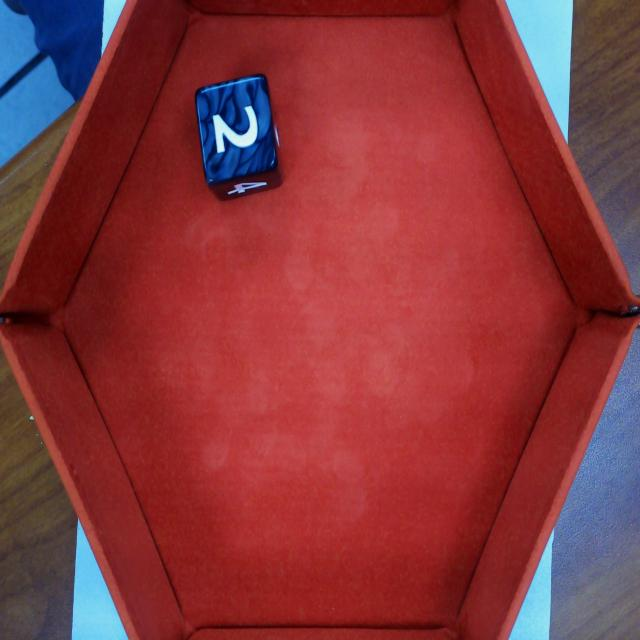dice: (198, 78, 282, 190)
